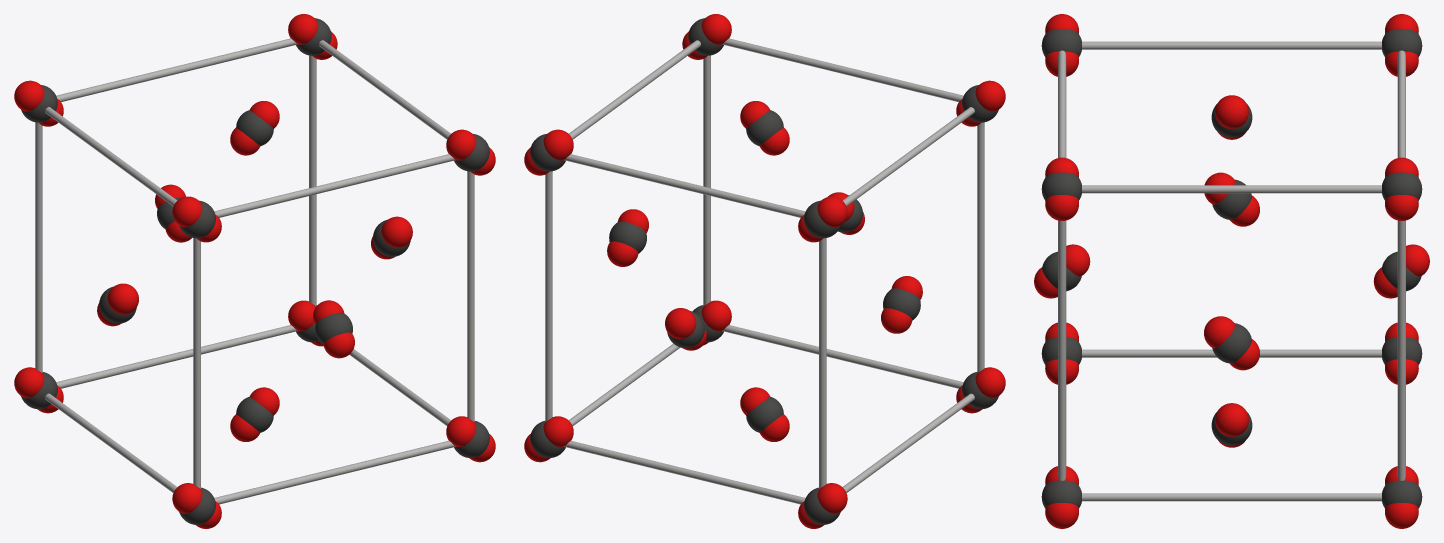
The model's file is fenzijingtu1.FBX.
3 renders of one model, left to right at view 1: azimuth 30°, elevation 25°; view 2: azimuth 150°, elevation 25°; view 3: azimuth 270°, elevation 25°, orthographic. The views are drawn at different scales.
Visible parts, largest first — view 1: F1; view 2: F1; view 3: F1.
Boxes of the visible parts, x1,y1,x2,y2 form: F1: (14,14,495,528); F1: (524,14,1005,528); F1: (1034,14,1429,528).
Bounding box in the file's own units: 58.27 × 58.27 × 58.27.
